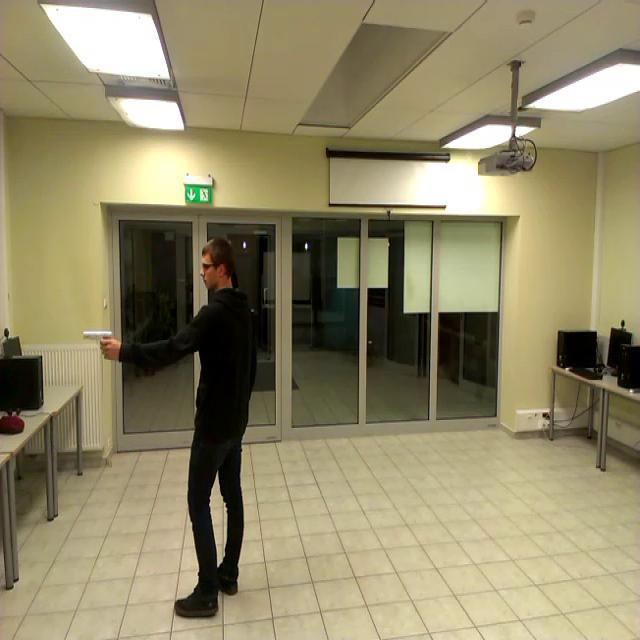Gun: (84, 330, 112, 356)
